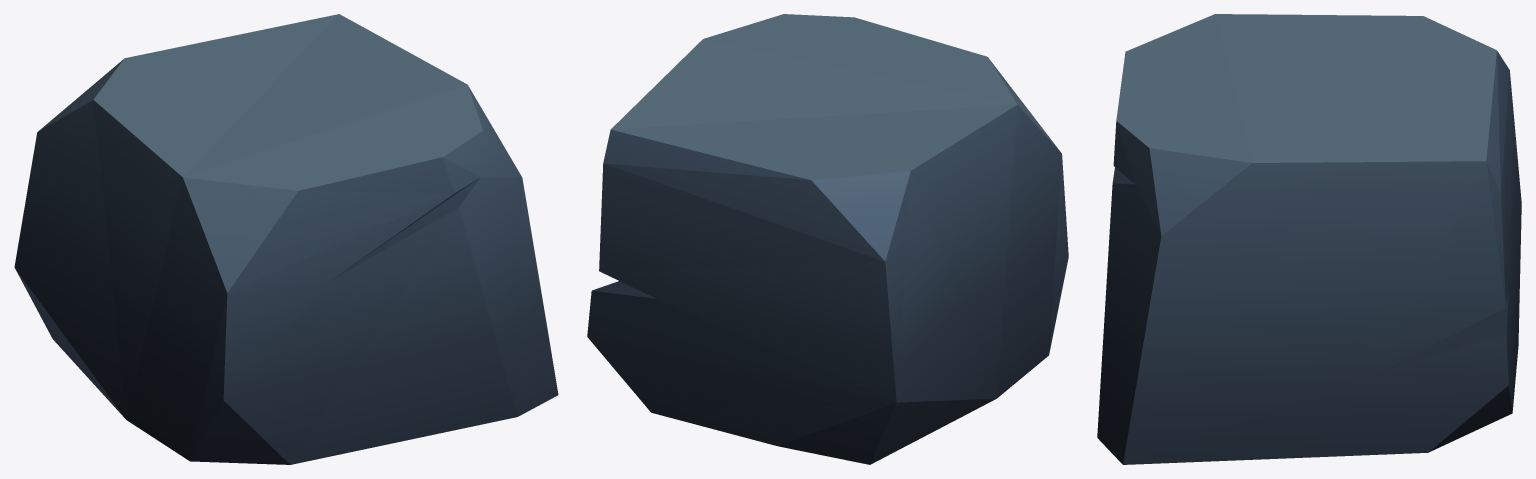
File: rock_block_2.glb
3 renders of one model, left to right at view 1: azimuth 30°, elevation 25°; view 2: azimuth 150°, elevation 25°; view 3: azimuth 270°, elevation 25°, orthographic. The views are drawn at different scales.
Parts seen in each view (by area): view 1: rock_block_2; view 2: rock_block_2; view 3: rock_block_2.
Boxes of the visible parts, x1,y1,x2,y2 form: rock_block_2: [14, 14, 558, 464]; rock_block_2: [587, 14, 1068, 464]; rock_block_2: [1097, 14, 1521, 464].
Bounding box in the file's own units: 1.09 × 0.8001 × 1.07.
Materials: 1 (1 with a texture image).
